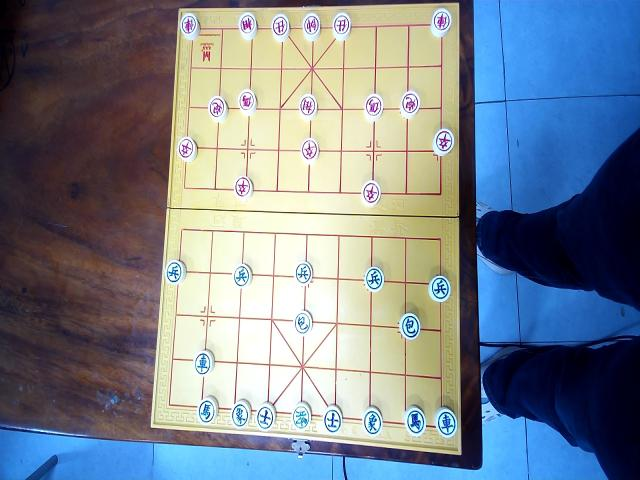piece: (434, 407, 457, 437), (404, 406, 426, 436), (197, 396, 218, 424), (433, 128, 454, 156), (431, 8, 451, 37), (363, 406, 382, 436), (231, 400, 251, 428), (400, 91, 420, 119), (256, 402, 275, 431), (323, 404, 342, 433), (292, 402, 311, 431), (429, 276, 450, 302), (399, 313, 420, 339), (238, 12, 257, 40), (180, 13, 199, 41), (177, 136, 197, 162), (194, 350, 214, 376), (208, 96, 228, 122), (364, 266, 384, 292), (361, 180, 380, 207), (165, 260, 186, 284), (271, 14, 289, 42), (333, 12, 350, 41), (299, 94, 317, 121), (238, 89, 256, 116), (365, 94, 383, 121), (303, 13, 320, 41), (234, 176, 253, 201), (301, 138, 318, 165), (294, 310, 312, 335), (295, 261, 313, 286), (233, 264, 252, 287)
